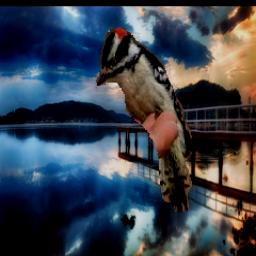Woodpecker: (95, 26, 193, 217)
